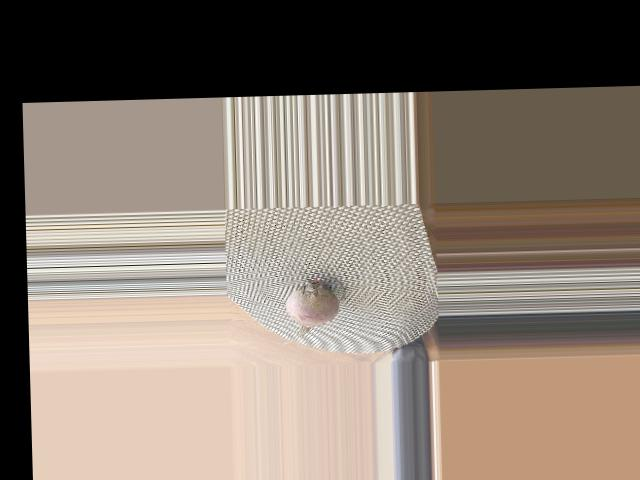beet: (276, 276, 347, 343)
